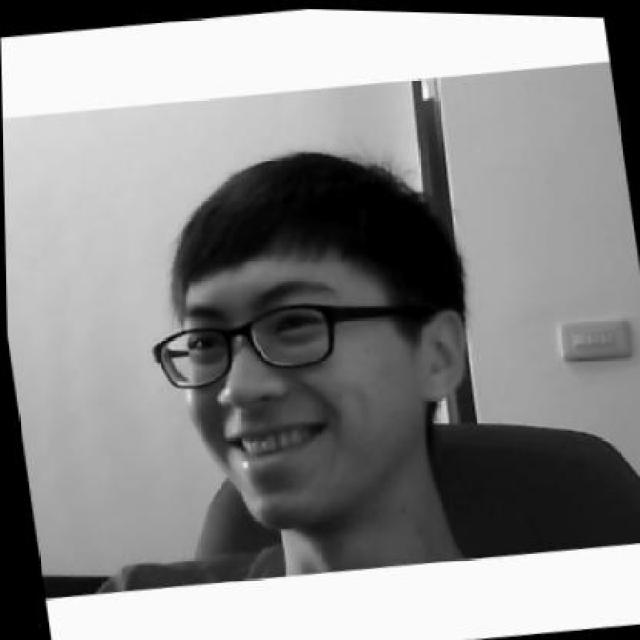attentif: (124, 130, 484, 545)
